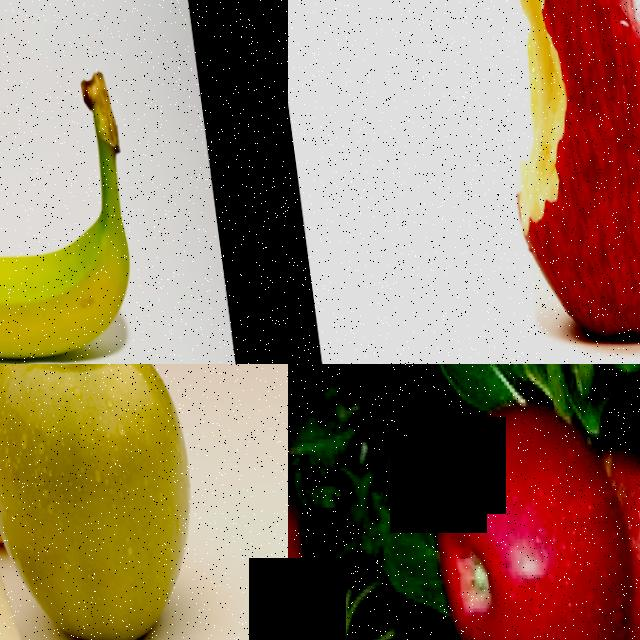apple: (461, 0, 640, 352), (0, 364, 227, 640), (417, 371, 640, 640), (0, 504, 49, 640), (288, 485, 320, 640)
banana: (0, 0, 173, 364)
